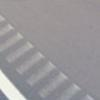crosswalks: (0, 11, 97, 100)
